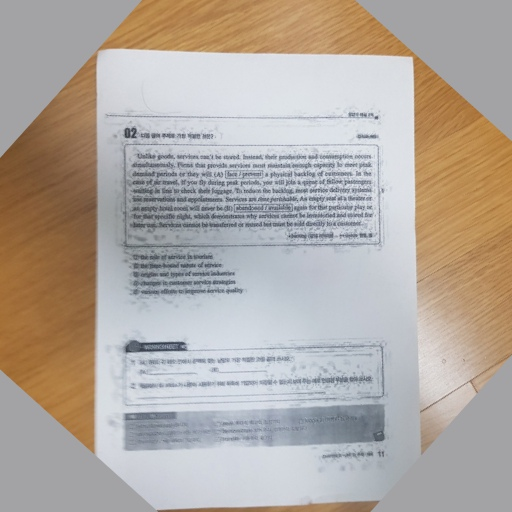Paper_2: (88, 45, 436, 507)
